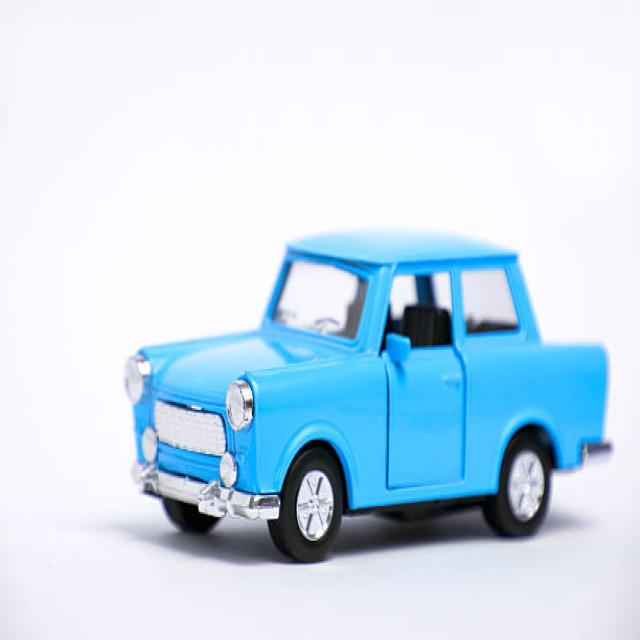Car: (123, 225, 614, 563)
